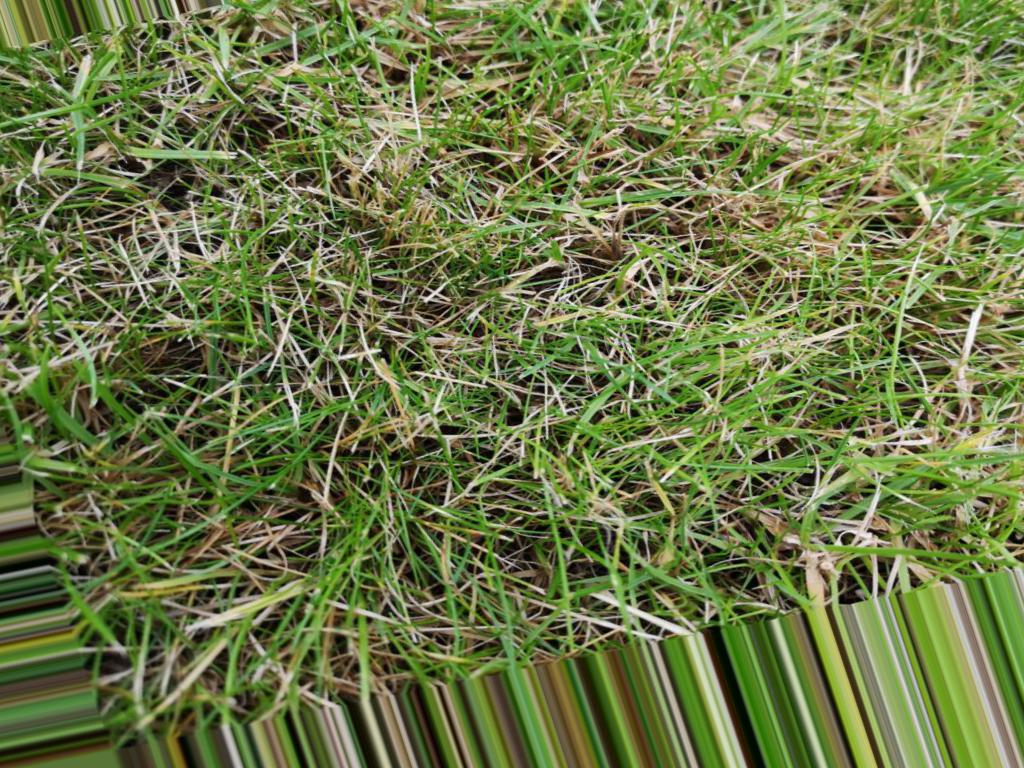patch: (311, 103, 454, 177)
